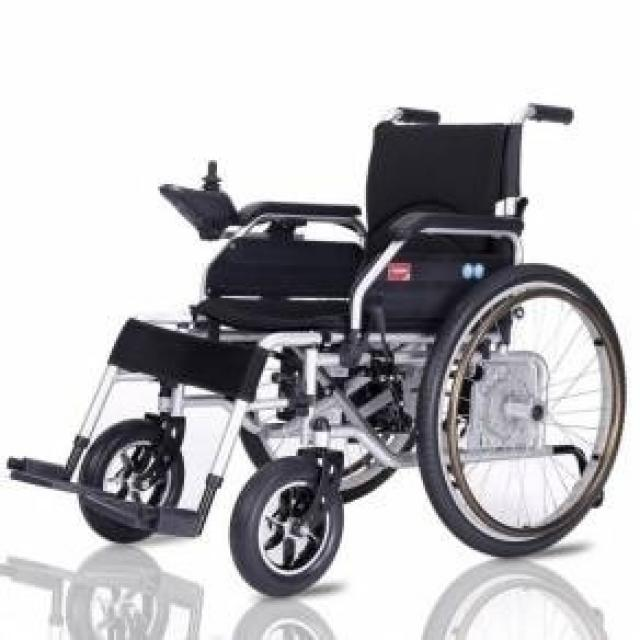wheelchair: (2, 84, 640, 598)
